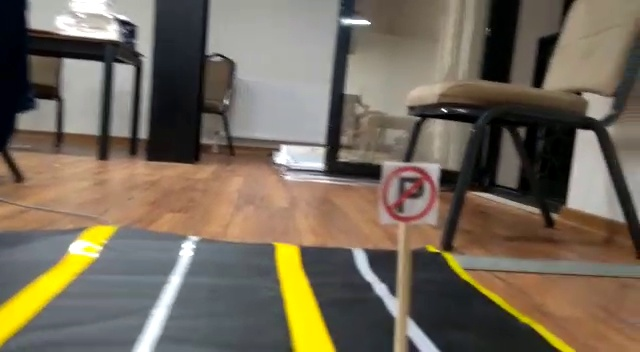park_yapilmaz: (383, 160, 439, 227)
